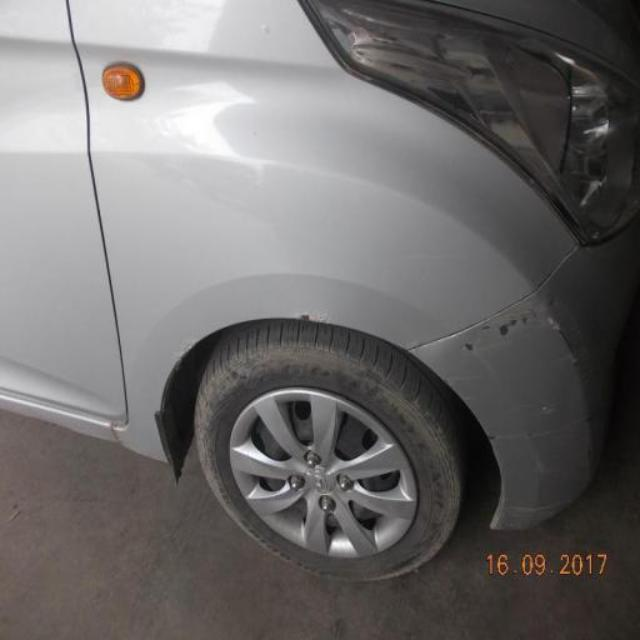scratch: (500, 308, 583, 378), (297, 312, 335, 325), (456, 337, 478, 356), (109, 422, 125, 447), (477, 322, 495, 333)
